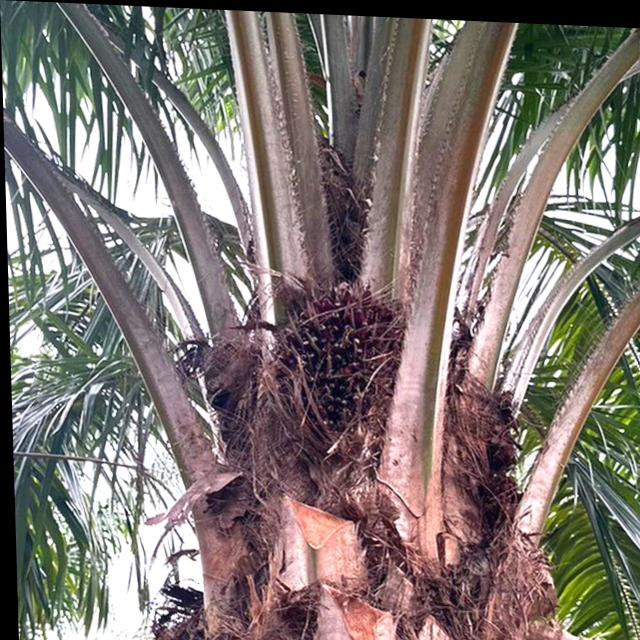ripe: (264, 260, 420, 435)
